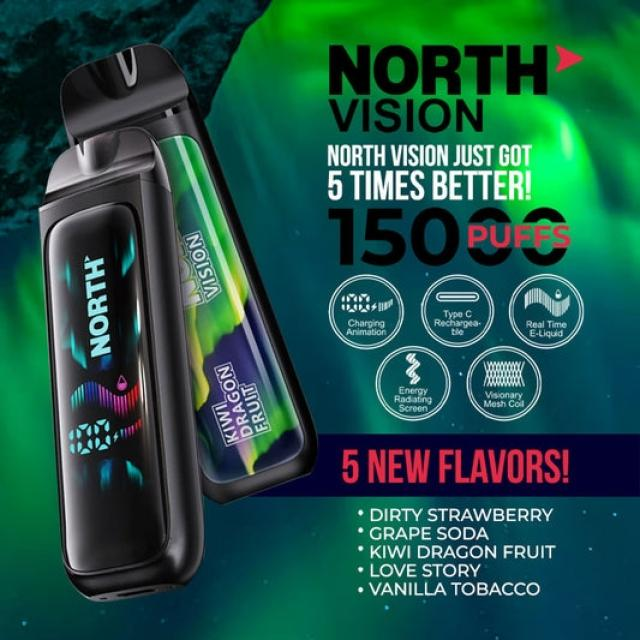Vapes: (36, 41, 318, 602)
